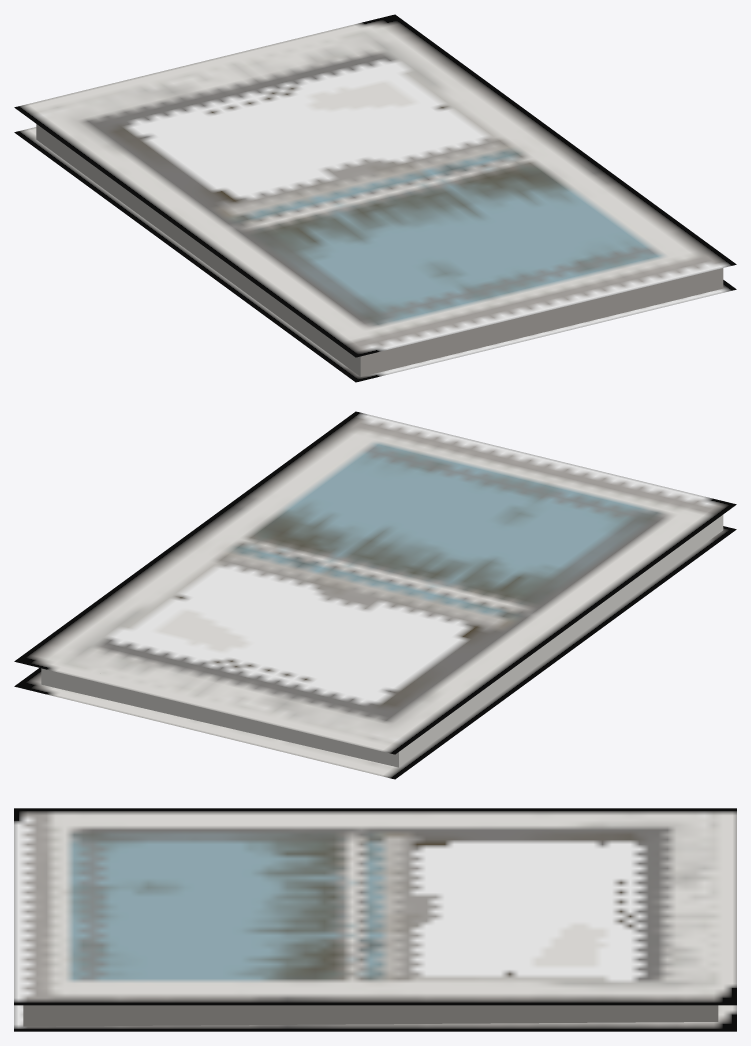
Rendered from pz_native_fixtures_windows_01_27_frame.obj.
The picture shows the model from 3 angles, top to bottom: view 1: azimuth 30°, elevation 25°; view 2: azimuth 150°, elevation 25°; view 3: azimuth 270°, elevation 25°; orthographic projection. The views are drawn at different scales.
Visible parts, largest first — view 1: pz_native_fixtures_windows_01_27_frame; view 2: pz_native_fixtures_windows_01_27_frame; view 3: pz_native_fixtures_windows_01_27_frame.
Part boxes in pixels (bbox=[...]): pz_native_fixtures_windows_01_27_frame: bbox=[14, 14, 736, 382]; pz_native_fixtures_windows_01_27_frame: bbox=[14, 411, 736, 779]; pz_native_fixtures_windows_01_27_frame: bbox=[14, 808, 736, 1031].
Size of the model in its own units: 0.6406 by 0.04 by 0.9951.
1 material, 1 textured.
